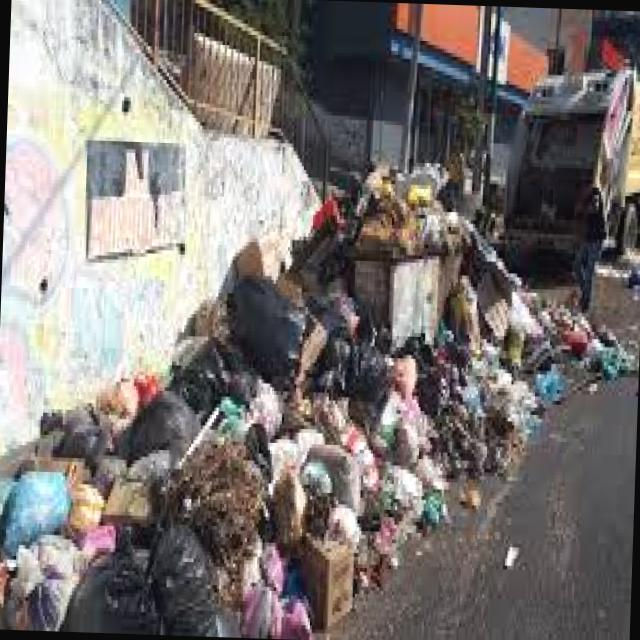garbage: (0, 135, 584, 640)
